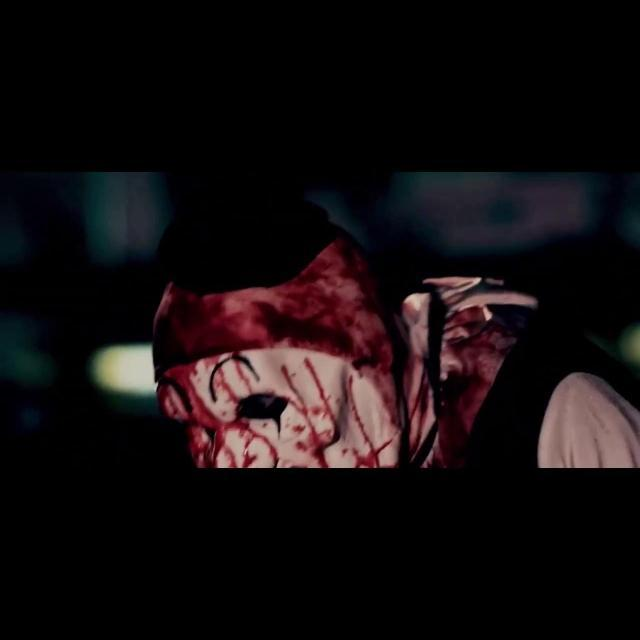blood: (154, 239, 516, 468)
